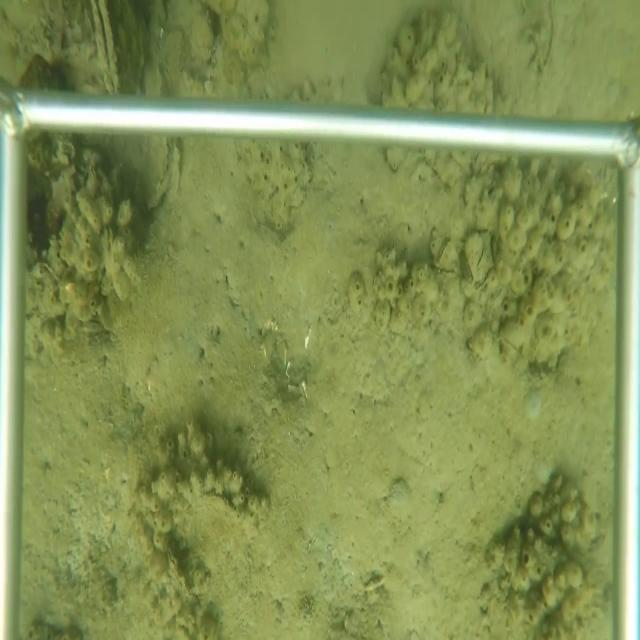Oyster-Closed: (167, 539, 198, 609)
Oyster-Open: (91, 0, 124, 95)
